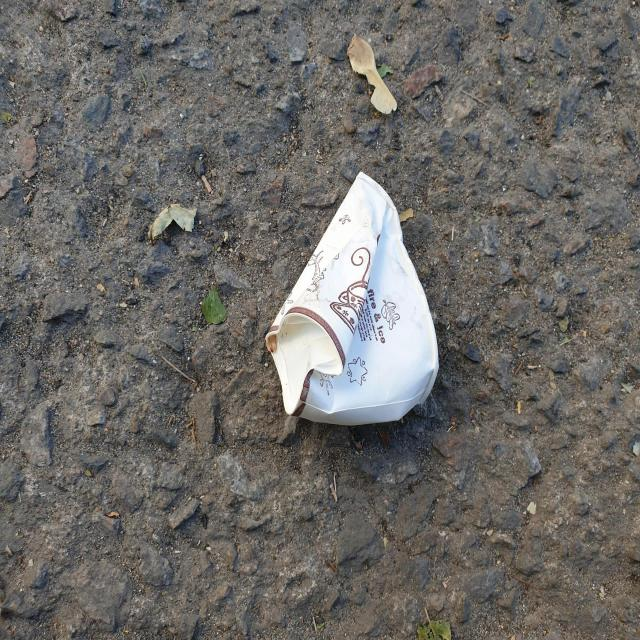paperpack: (266, 171, 439, 425)
